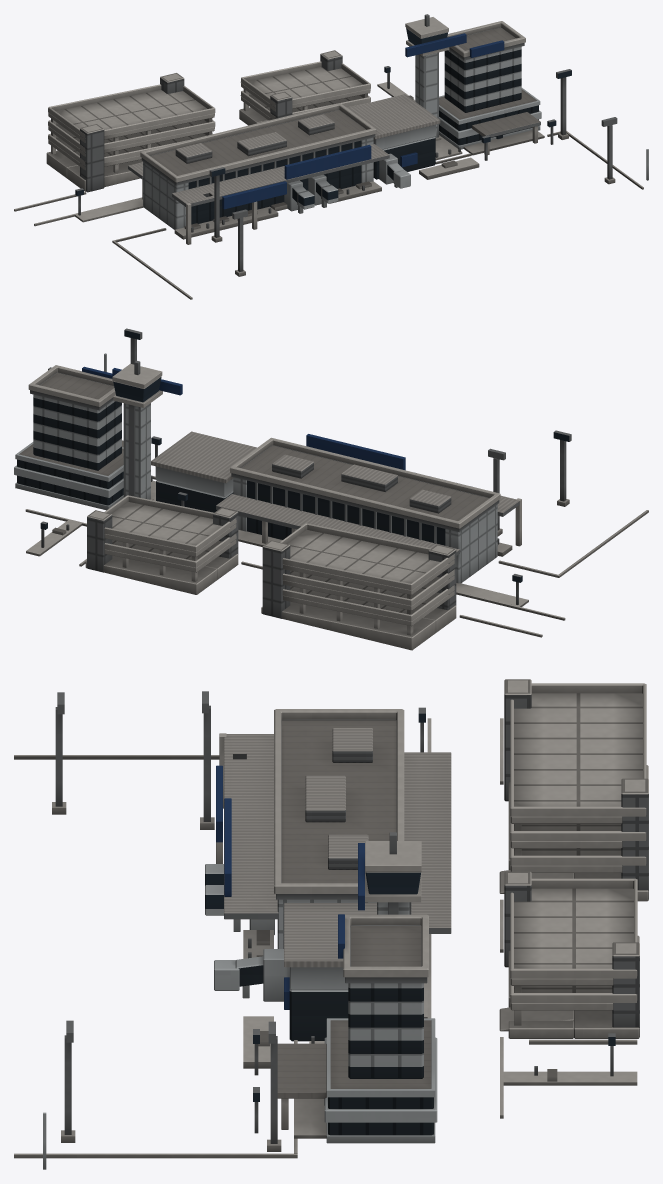
File: airport-lod1.glb
The picture shows the model from 3 angles, top to bottom: view 1: azimuth 30°, elevation 25°; view 2: azimuth 150°, elevation 25°; view 3: azimuth 270°, elevation 25°; orthographic projection. The views are drawn at different scales.
Parts seen in each view (by area): view 1: fringe:tullamarine-terminal-body, fringe:tullamarine-car-park-body:a, fringe:tullamarine-hotel-body, fringe:tullamarine-car-park-body:b, fringe:tullamarine-t2-body, fringe:tullamarine-frontage, fringe:tullamarine-airside-furniture, fringe:tullamarine-landside, fringe:tullamarine-hotel-forecourt, fringe:tullamarine-apron-edge, fringe:tullamarine-t2-jetway, fringe:tullamarine-jetbridge:0 (+1 smaller); view 2: fringe:tullamarine-terminal-body, fringe:tullamarine-car-park-body:a, fringe:tullamarine-hotel-body, fringe:tullamarine-car-park-body:b, fringe:tullamarine-t2-body, fringe:tullamarine-landside, fringe:tullamarine-airside-furniture, fringe:tullamarine-apron-edge; view 3: fringe:tullamarine-terminal-body, fringe:tullamarine-car-park-body:a, fringe:tullamarine-hotel-body, fringe:tullamarine-car-park-body:b, fringe:tullamarine-t2-body, fringe:tullamarine-airside-furniture, fringe:tullamarine-landside, fringe:tullamarine-apron-edge, fringe:tullamarine-t2-jetway, fringe:tullamarine-frontage, fringe:tullamarine-hotel-forecourt, fringe:tullamarine-jetbridge:1.
Boxes of the visible parts, x1,y1,x2,y2 form: fringe:tullamarine-terminal-body: (128,14,466,244); fringe:tullamarine-car-park-body:a: (46,73,215,192); fringe:tullamarine-hotel-body: (439,21,541,154); fringe:tullamarine-car-park-body:b: (239,50,370,125); fringe:tullamarine-t2-body: (347,94,440,179); fringe:tullamarine-frontage: (174,157,479,239); fringe:tullamarine-airside-furniture: (209,69,648,276); fringe:tullamarine-landside: (14,66,462,226); fringe:tullamarine-hotel-forecourt: (463,119,556,160); fringe:tullamarine-apron-edge: (112,131,643,299); fringe:tullamarine-t2-jetway: (379,153,410,188); fringe:tullamarine-jetbridge:0: (284,180,314,213); fringe:tullamarine-terminal-body: (112,360,521,583); fringe:tullamarine-car-park-body:a: (261,523,456,650); fringe:tullamarine-hotel-body: (14,365,123,510); fringe:tullamarine-car-park-body:b: (85,495,238,594); fringe:tullamarine-t2-body: (151,431,256,512); fringe:tullamarine-landside: (25,475,565,637); fringe:tullamarine-airside-furniture: (48,328,571,536); fringe:tullamarine-apron-edge: (152,475,648,577); fringe:tullamarine-terminal-body: (216,709,451,977); fringe:tullamarine-car-park-body:a: (499,679,648,901); fringe:tullamarine-hotel-body: (277,914,437,1143); fringe:tullamarine-car-park-body:b: (499,871,639,1038); fringe:tullamarine-t2-body: (284,903,412,1041); fringe:tullamarine-airside-furniture: (43,691,281,1169); fringe:tullamarine-landside: (309,707,637,1118); fringe:tullamarine-apron-edge: (14,755,297,1158); fringe:tullamarine-t2-jetway: (214,949,288,1001); fringe:tullamarine-frontage: (243,930,273,1068); fringe:tullamarine-hotel-forecourt: (253,1029,326,1138); fringe:tullamarine-jetbridge:1: (205,885,274,934).
Bounding box in the file's own units: 117 × 27.56 × 70.3.
7 materials, 7 textured.
